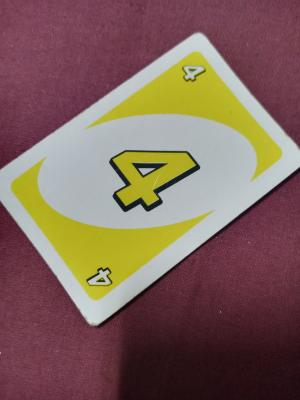num_4: (90, 137, 208, 213), (177, 57, 216, 111), (82, 252, 123, 293)
